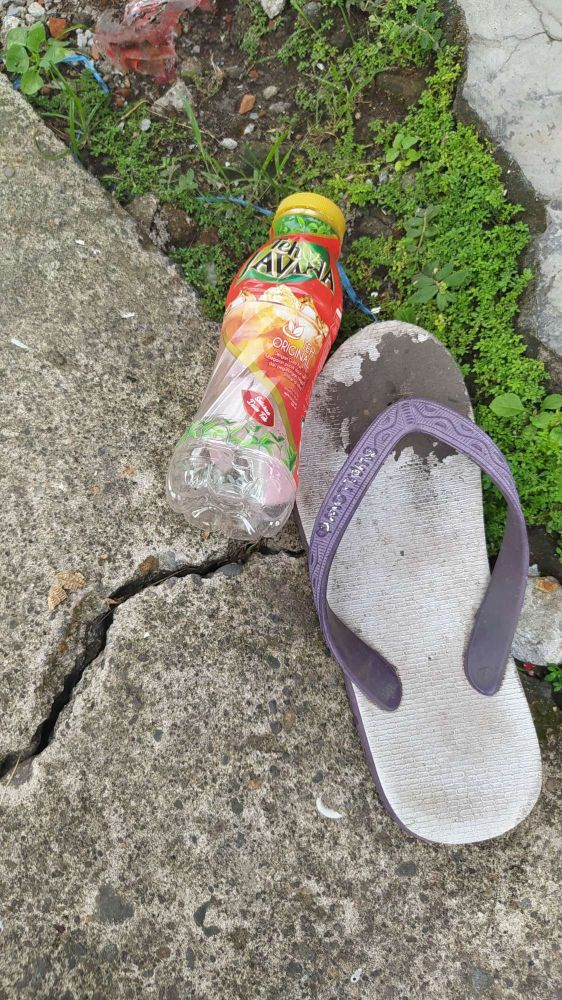botol: (174, 159, 349, 571)
